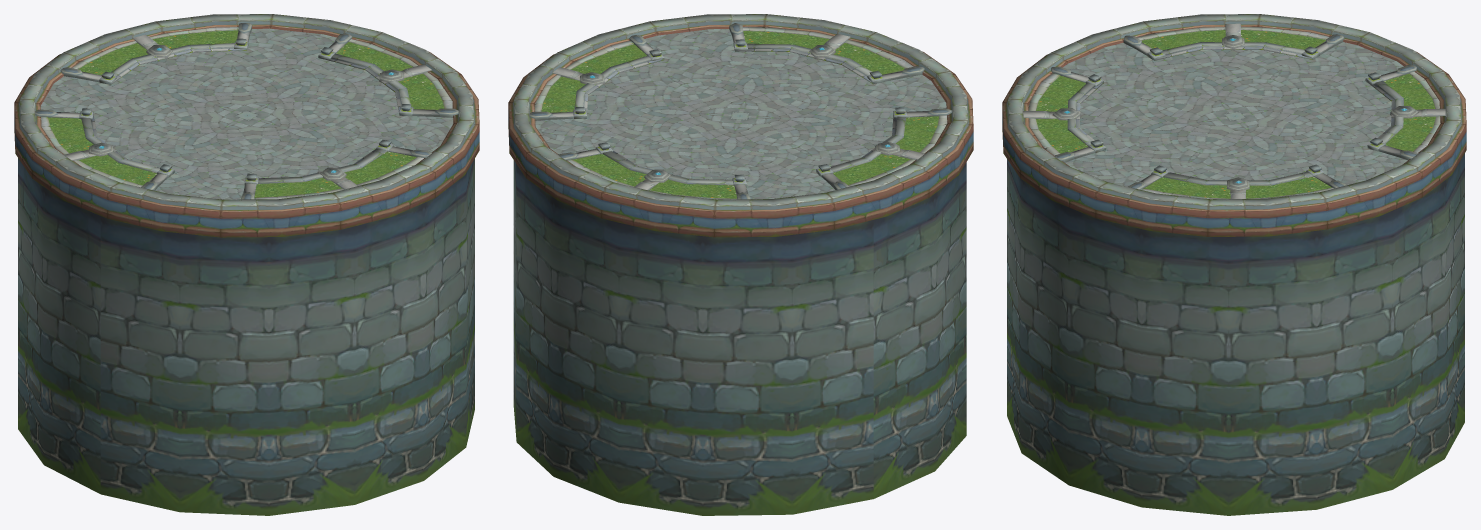
Rendered from Map_003_Platform.FBX.
3 renders of one model, left to right at view 1: azimuth 30°, elevation 25°; view 2: azimuth 150°, elevation 25°; view 3: azimuth 270°, elevation 25°, orthographic.
Parts seen in each view (by area): view 1: Map_003_platform, Map_003_ground, Map_003_side; view 2: Map_003_platform, Map_003_ground, Map_003_side; view 3: Map_003_platform, Map_003_ground, Map_003_side.
Boxes of the visible parts, x1,y1,x2,y2 form: Map_003_platform: (14, 14, 479, 515); Map_003_ground: (40, 28, 453, 199); Map_003_side: (35, 23, 458, 199); Map_003_platform: (508, 14, 973, 515); Map_003_ground: (535, 29, 947, 199); Map_003_side: (529, 23, 952, 199); Map_003_platform: (1002, 14, 1466, 515); Map_003_ground: (1028, 42, 1407, 186); Map_003_side: (1023, 23, 1445, 199).
Size of the model in its own units: 2314 by 2314 by 1707.
